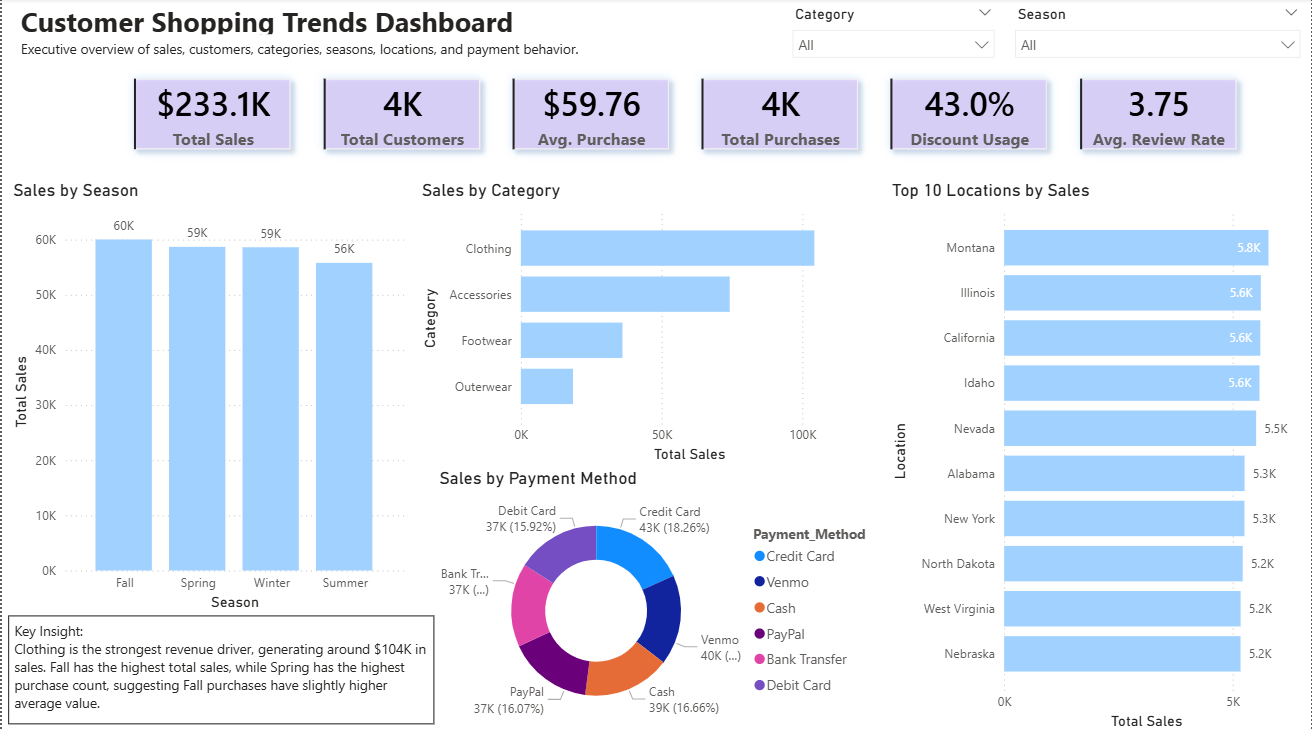

The dashboard page shown, as its layout file describes it:
{"tool":"powerbi","page":{"name":"Executive Overview","canvas":[1280,720],"ordinal":0},"visuals":[{"type":"cardVisual","fields":{"Data":["Measures (2).Total Sales","Measures (2).Total Customers","Measures (2).Average Purchase Amount","Measures (2).Total Purchases","Measures (2).Discount Usage Rate","Measures (2).Average Review Rating"]},"box":[100.3,50.1,1136,127.2],"z":0},{"type":"clusteredBarChart","title":"Sales by Category","fields":{"Category":["shopping_trends_cleaned.Category"],"Y":["Measures (2).Total Sales"]},"box":[406,177.3,451.2,282.5],"z":1000},{"type":"clusteredColumnChart","title":"Sales by Season","fields":{"Category":["shopping_trends_cleaned.Season"],"Y":["Measures (2).Total Sales"]},"box":[6.1,177.3,392.5,426.8],"z":2000},{"type":"clusteredBarChart","title":"Top 10 Locations by Sales","fields":{"Category":["shopping_trends_cleaned.Location"],"Y":["Measures (2).Total Sales"]},"box":[865.8,177.3,406,542.9],"z":3000},{"type":"donutChart","title":"Sales by Payment Method","fields":{"Category":["shopping_trends_cleaned.Payment_Method"],"Y":["Measures (2).Total Sales"]},"box":[423.1,459.8,442.7,260.5],"z":4000},{"type":"textbox","box":[6.1,604.1,417,106.4],"z":5000},{"type":"textbox","box":[13.5,0,527,50.1],"z":5001},{"type":"textbox","box":[13.5,35.5,557.6,28.1],"z":5002},{"type":"slicer","fields":{"Values":["shopping_trends_cleaned.Category"]},"box":[763,2.4,217.7,58.7],"z":5003},{"type":"slicer","fields":{"Values":["shopping_trends_cleaned.Season"]},"box":[980.7,2.4,299.6,66],"z":5004}]}

Visuals, with their boxes in screenshot pixels (x1, y1, x2, y2), scaled from the page's 1280x720 canvas onto the 1312x731 screenshot:
cardVisual - Measures (2).Total Sales x Measures (2).Total Customers: left=103, top=51, right=1267, bottom=180
"Sales by Category" clusteredBarChart: left=416, top=180, right=879, bottom=467
"Sales by Season" clusteredColumnChart: left=6, top=180, right=409, bottom=613
"Top 10 Locations by Sales" clusteredBarChart: left=887, top=180, right=1304, bottom=730
"Sales by Payment Method" donutChart: left=434, top=467, right=887, bottom=730
textbox: left=6, top=613, right=434, bottom=721
textbox: left=14, top=0, right=554, bottom=51
textbox: left=14, top=36, right=585, bottom=65
slicer - shopping_trends_cleaned.Category: left=782, top=2, right=1005, bottom=62
slicer - shopping_trends_cleaned.Season: left=1005, top=2, right=1311, bottom=69
